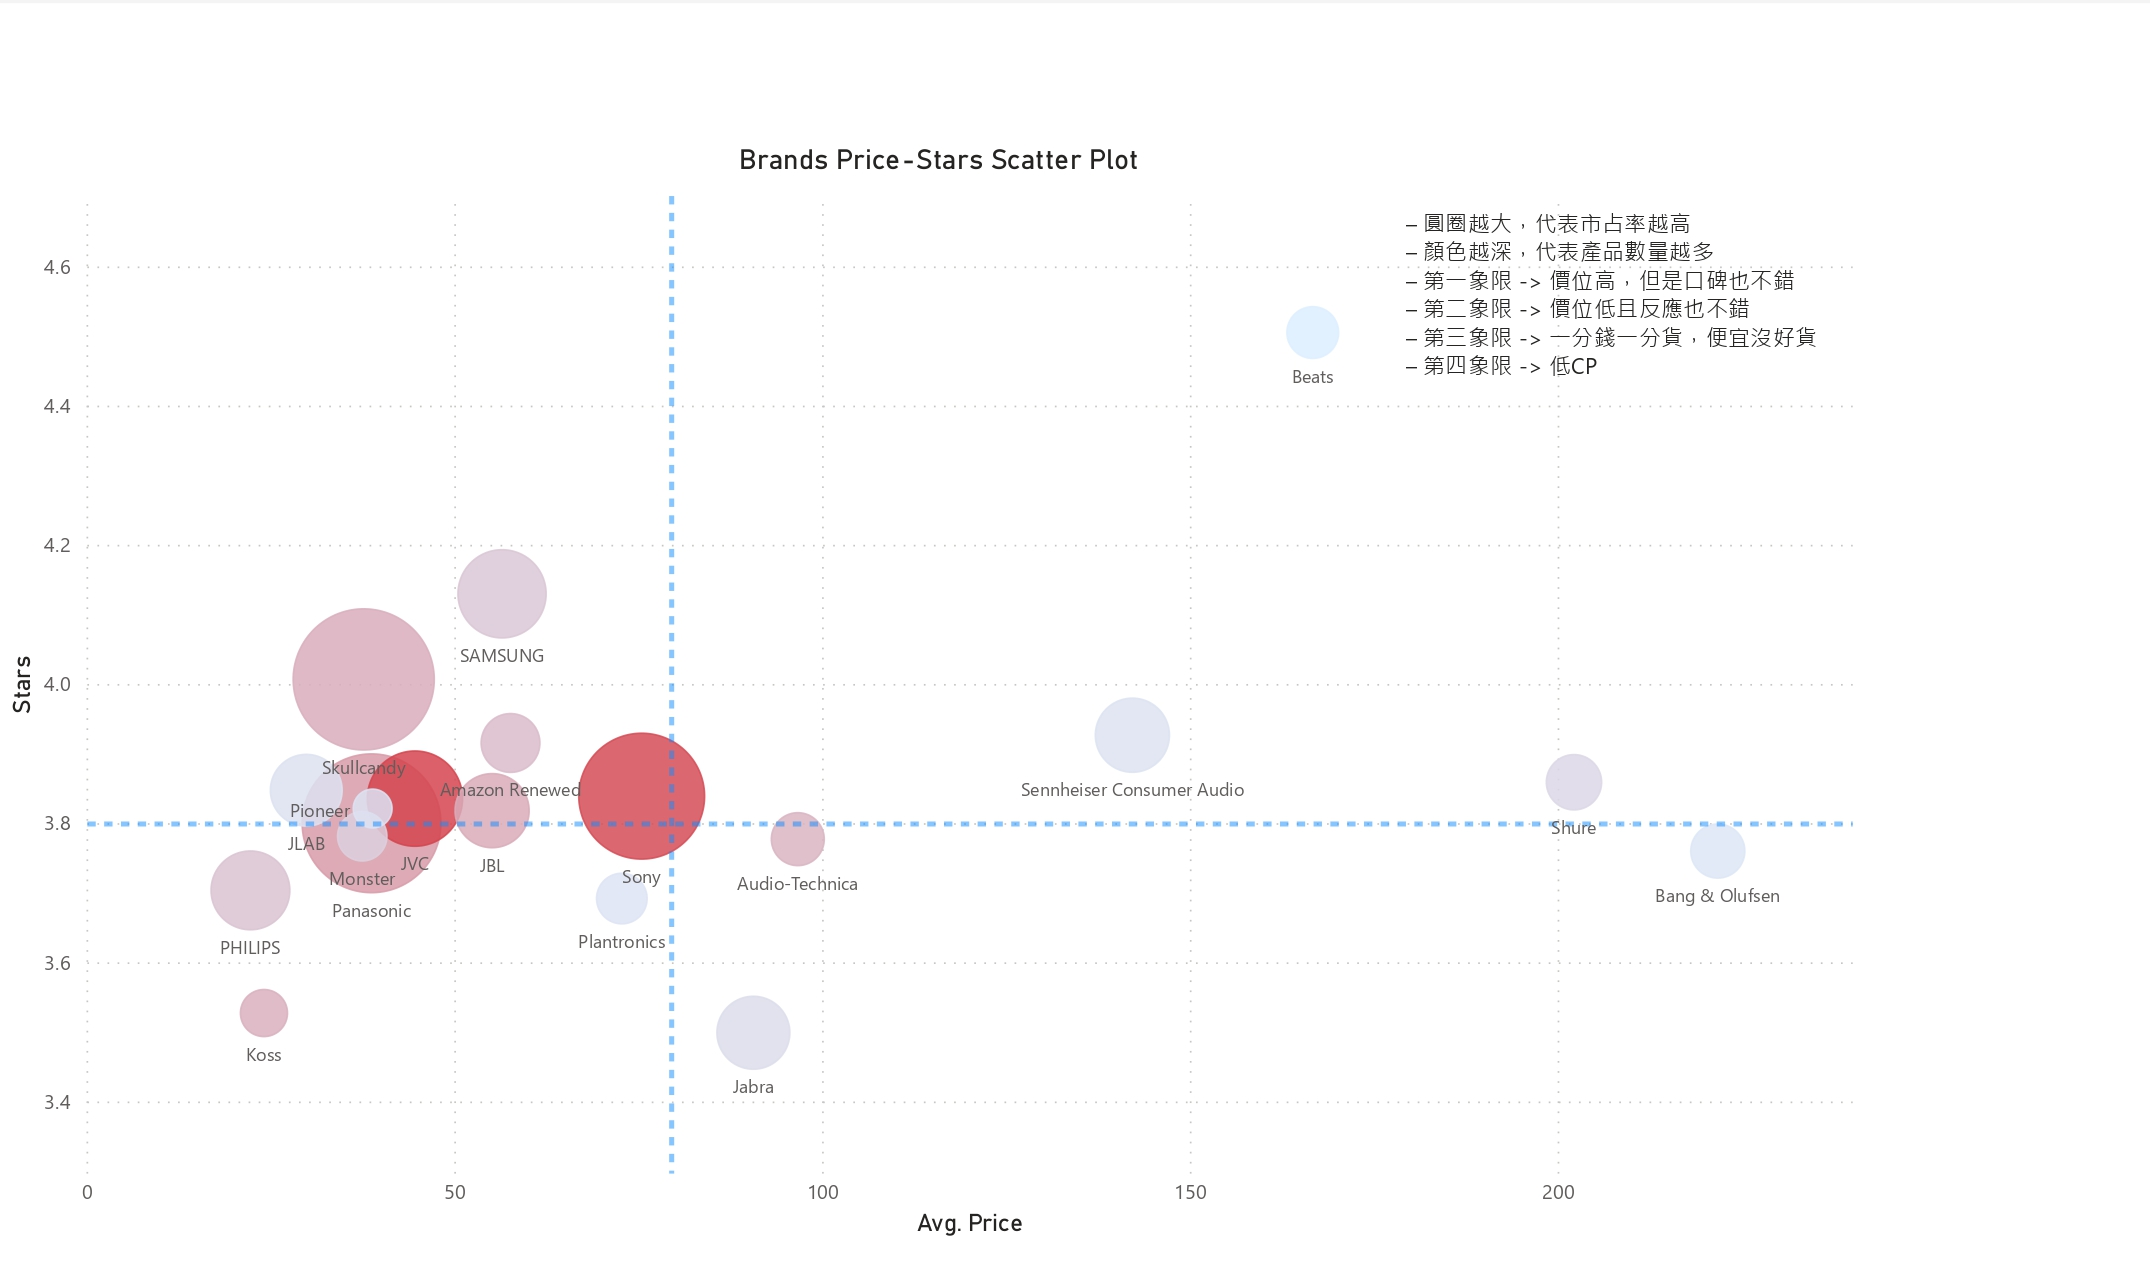

This screenshot's page, from the dashboard's own definition file:
{"tool":"powerbi","page":{"name":"Brands Price-Stars Scatter plot","canvas":[1280,720],"ordinal":8},"visuals":[{"type":"scatterChart","title":"Brands Price-Stars Scatter Plot","fields":{"X":["Avg(Clean_Amazon_Earbuds (2).Prices)"],"Category":["Clean_Amazon_Earbuds (2).Brands"],"Size":["Sum(Clean_Amazon_Earbuds (2).Ratings)"],"Y":["Avg(Clean_Amazon_Earbuds (2).Stars)"]},"box":[0,64.2,1118,655.8],"z":0},{"type":"textbox","box":[831.8,98.4,393,310.4],"z":1}]}

Visuals, with their boxes on the page's 1280x720 design canvas (x1, y1, x2, y2). These are canvas units, not pixel positions in the 2150x1275 screenshot, which may show the page scaled, cropped or inside an application window:
"Brands Price-Stars Scatter Plot" scatterChart: detection(0, 64, 1118, 720)
textbox: detection(832, 98, 1225, 409)
